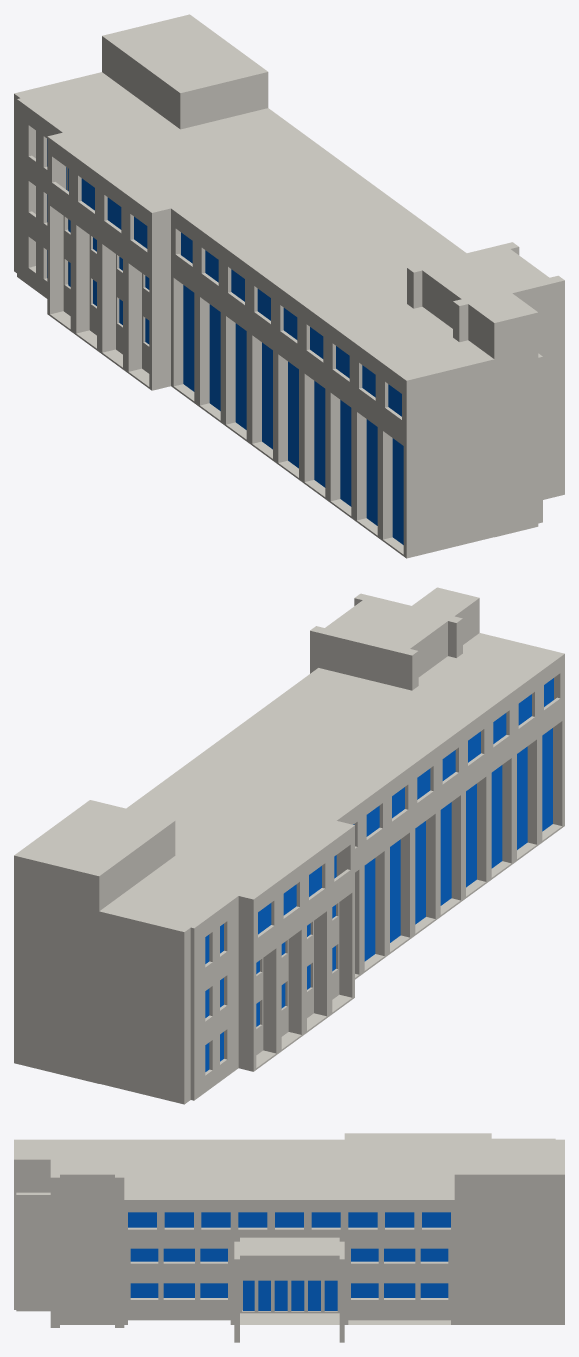
File: 디자인연구관.fbx
3 renders of one model, top to bottom at view 1: azimuth 30°, elevation 25°; view 2: azimuth 150°, elevation 25°; view 3: azimuth 270°, elevation 25°, orthographic. The views are drawn at different scales.
Parts seen in each view (by area): view 1: Cube, Cube_115, Cube_118, inside; view 2: Cube, Cube_115, Cube_118, Cube_116; view 3: Cube, Cube_96, inside, Cube_98, Cube_97, Cube_99.
Boxes of the visible parts, x1,y1,x2,y2 form: Cube: [14, 14, 564, 558]; Cube_115: [181, 232, 403, 544]; Cube_118: [68, 168, 149, 344]; inside: [67, 167, 542, 523]; Cube: [14, 587, 564, 1104]; Cube_115: [336, 678, 553, 961]; Cube_118: [256, 855, 336, 1026]; Cube_116: [205, 924, 223, 1071]; Cube: [14, 1133, 564, 1342]; Cube_96: [128, 1212, 450, 1227]; inside: [16, 1192, 242, 1311]; Cube_98: [351, 1248, 448, 1297]; Cube_97: [130, 1248, 227, 1297]; Cube_99: [243, 1280, 337, 1310].
Size of the model in its own units: 367 by 304 by 1011.
